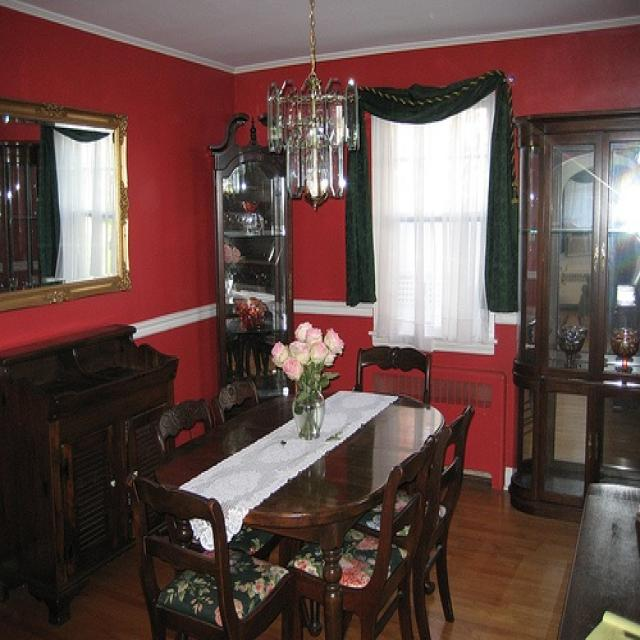chair: (286, 434, 432, 638), (123, 466, 294, 638), (353, 401, 474, 638)
diningtable: (155, 382, 443, 638)
